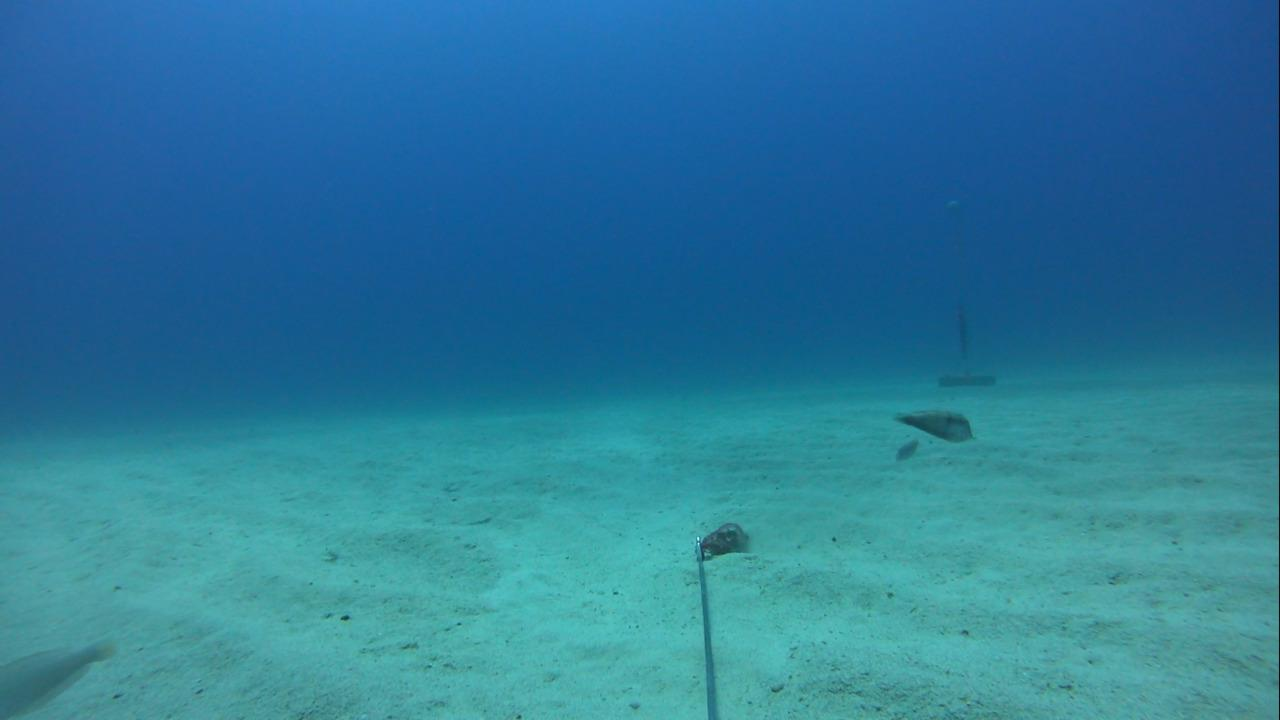raor: (890, 403, 978, 446)
